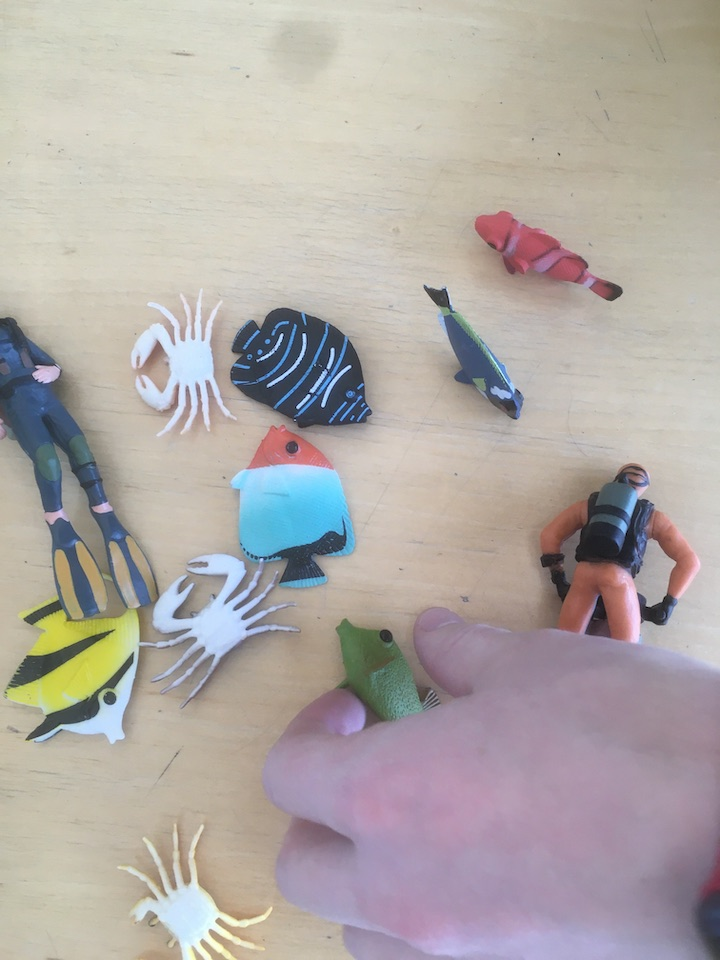crab: (135, 543, 308, 719), (115, 820, 283, 960), (127, 290, 242, 444)
danger: (1, 590, 150, 759)
diver: (1, 302, 167, 618), (531, 449, 702, 655)
fish: (227, 415, 361, 598), (221, 302, 375, 436), (416, 273, 531, 426), (467, 207, 634, 307), (327, 611, 448, 736)
